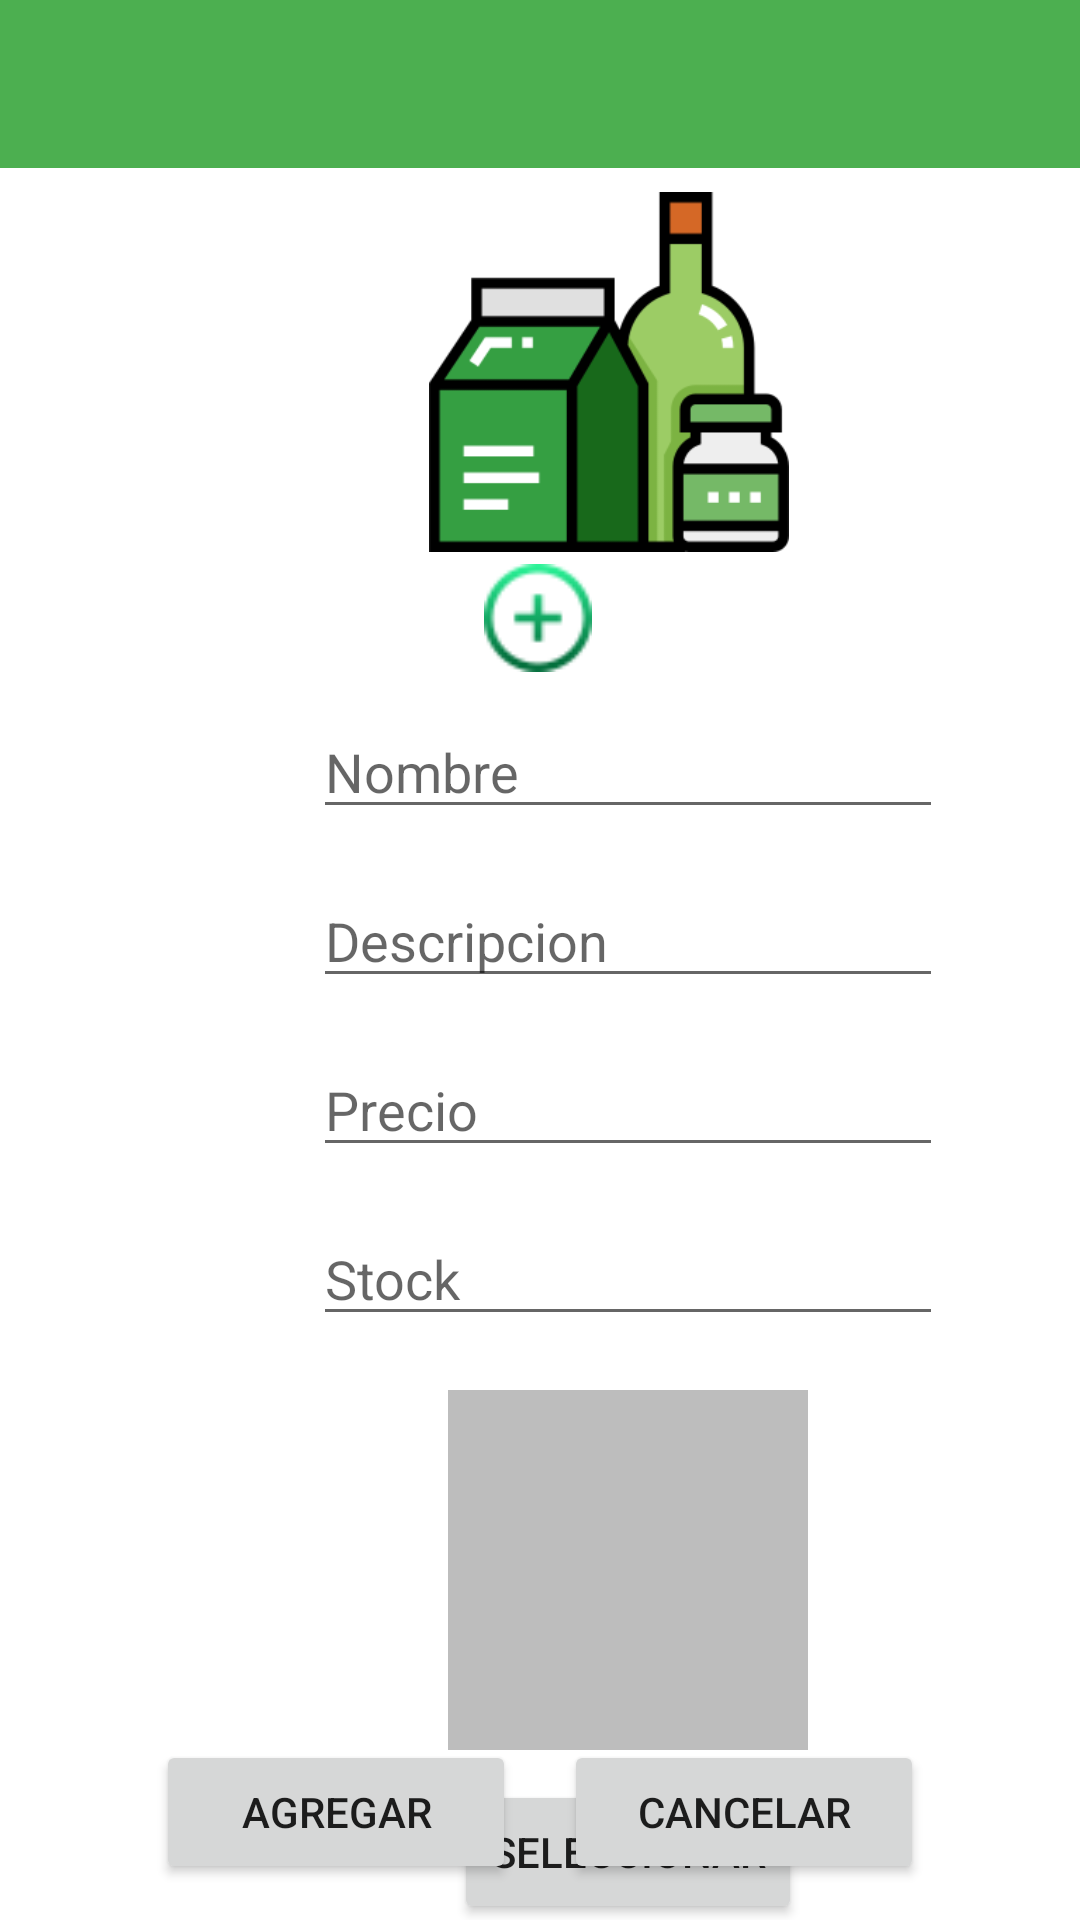

Where icons sit on this 1080*1920 app screen, as (x1, y1, x2, y2):
addproduct: (484, 564, 592, 672)
products: (429, 192, 789, 552)
